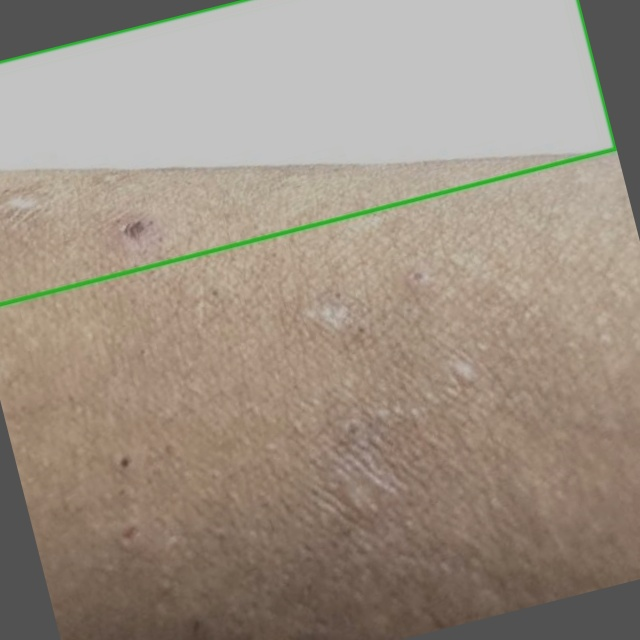Scabies: (0, 0, 615, 304)
